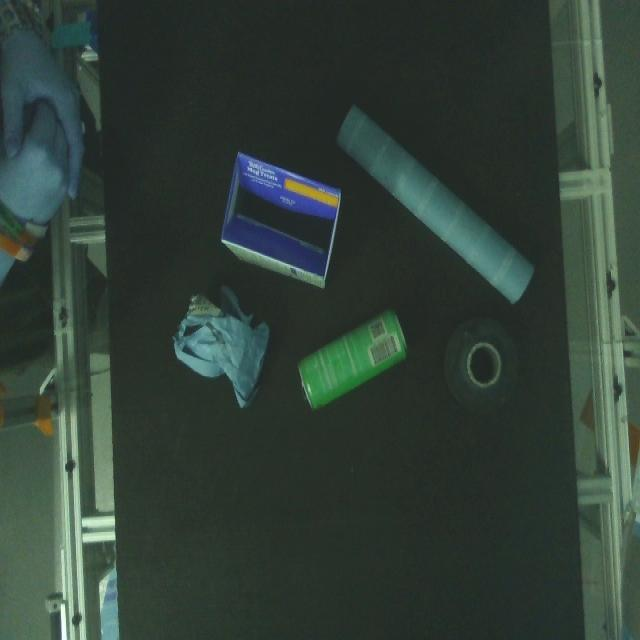non-paper: (295, 306, 410, 414), (441, 314, 522, 416)
paper: (333, 101, 536, 307), (219, 149, 343, 291), (168, 283, 275, 414)
